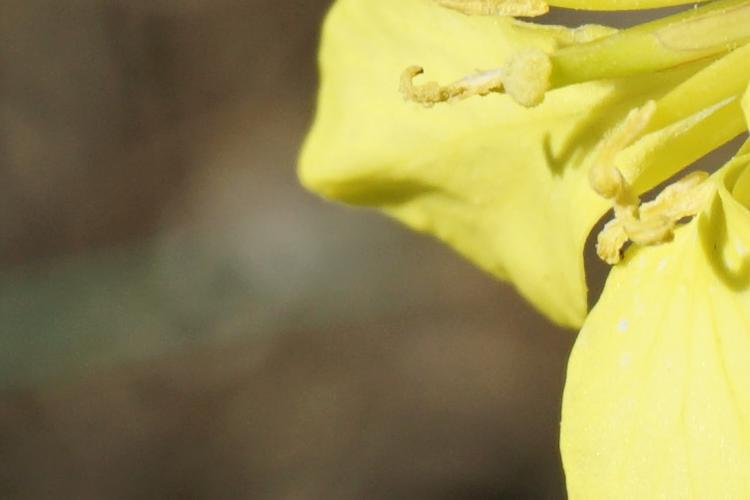yellow: (302, 10, 750, 491)
